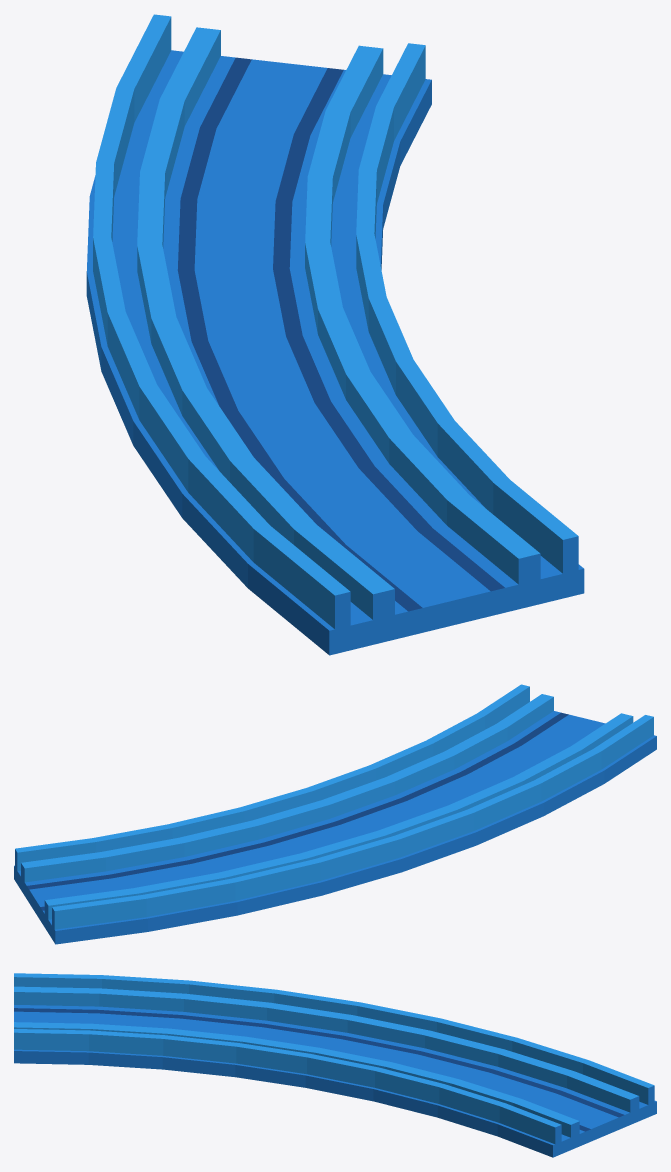
The model's file is Track_Curve_Right_45.fbx.
The picture shows the model from 3 angles, top to bottom: view 1: azimuth 30°, elevation 25°; view 2: azimuth 150°, elevation 25°; view 3: azimuth 270°, elevation 25°; orthographic projection. The views are drawn at different scales.
Parts seen in each view (by area): view 1: Molded blue rail; view 2: Molded blue rail; view 3: Molded blue rail.
Boxes of the visible parts, x1,y1,x2,y2 form: Molded blue rail: [86, 14, 584, 655]; Molded blue rail: [14, 684, 656, 944]; Molded blue rail: [14, 973, 656, 1157].
Bounding box in the file's own units: 266 × 23.21 × 462.
